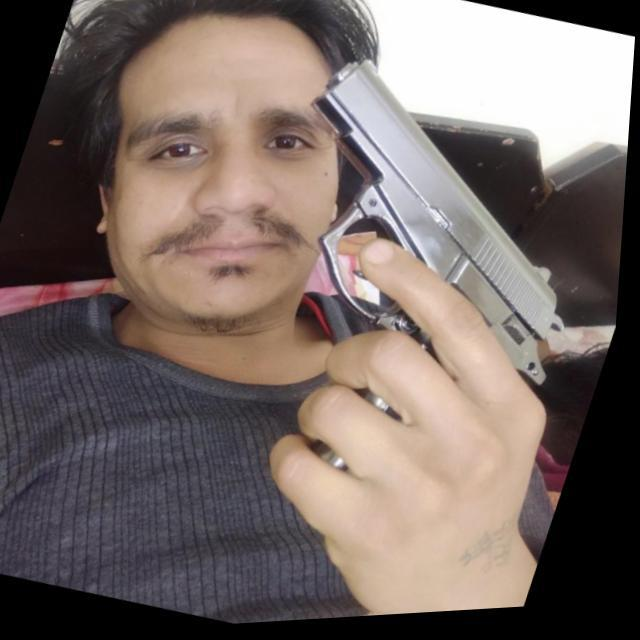weapon: (167, 28, 637, 595)
